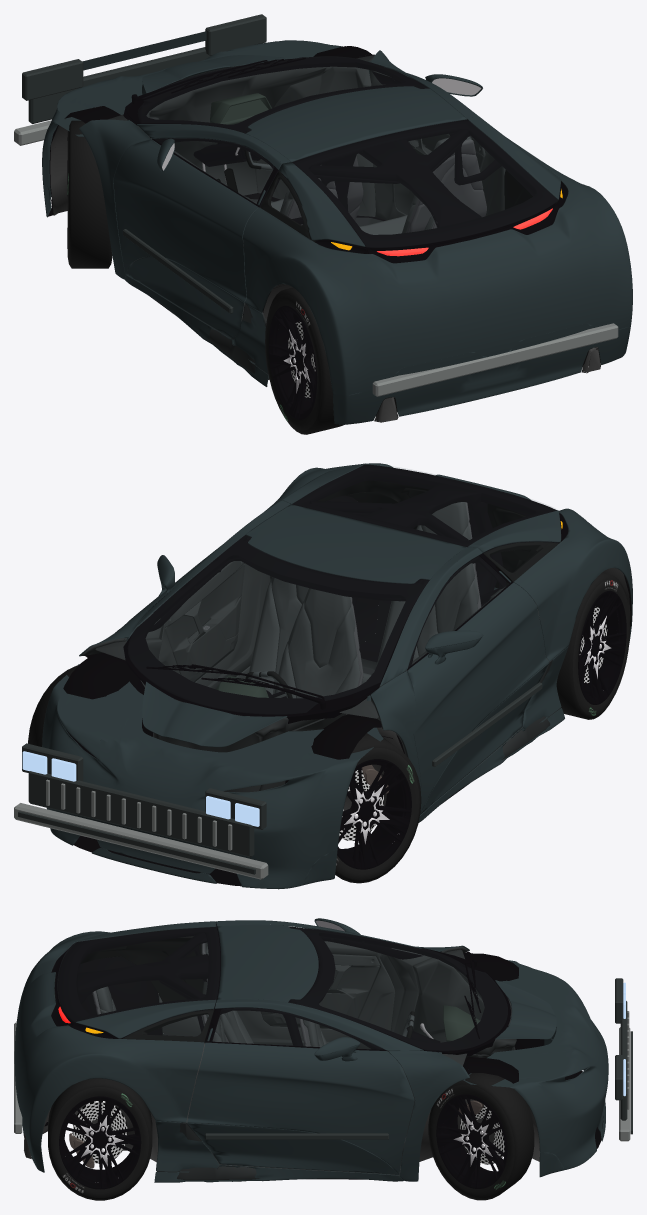
The model's file is cruiser.glb.
3 renders of one model, top to bottom at view 1: azimuth 30°, elevation 25°; view 2: azimuth 150°, elevation 25°; view 3: azimuth 270°, elevation 25°, orthographic. The views are drawn at different scales.
Parts seen in each view (by area): view 1: BodyRearPanelsColor1, BodyDoorLColor1, BodyPanelsColor2, BodyRoofPanel, InteriorRearHatch, BodyPillars, InteriorPillar, VT1 fixed VT1 dark steel grille and bumper rubber, InteriorDashMid, WheelFrontL, BodyHood, BodyWindshieldGasket (+20 smaller); view 2: BodyHood, BodyDoorLColor1, BodyWindshieldGasket, BodyRearPanelsColor1, BodyRoofPanel, VT1 fixed VT1 dark steel grille and bumper rubber, InteriorSeatsColor1, InteriorFloor, BodyPillars, InteriorSeatsColor2, WheelFrontLRim, InteriorPillar (+24 smaller); view 3: BodyDoorRColor1, BodyRearPanelsColor1, BodyHood, BodyPillars, BodyRoofPanel, BodyDoorRColor2, BodyWindshieldGasket, WheelFrontR, BodyPanelsColor2, WheelRearRRim, WheelFrontRRim, WheelRearR (+24 smaller).
Boxes of the visible parts, x1,y1,x2,y2 form: BodyRearPanelsColor1: (243,116,632,395); BodyDoorLColor1: (113,139,258,302); BodyPanelsColor2: (43,186,631,424); BodyRoofPanel: (246,86,466,161); InteriorRearHatch: (280,120,557,253); BodyPillars: (79,50,477,279); InteriorPillar: (292,120,481,227); VT1 fixed VT1 dark steel grille and bumper rubber: (22,14,266,123); InteriorDashMid: (148,65,332,195); WheelFrontL: (67,120,112,268); BodyHood: (42,40,370,202); BodyWindshieldGasket: (123,56,427,133); BodyHood: (42,636,383,889); BodyDoorLColor1: (407,582,548,814); BodyWindshieldGasket: (123,536,428,723); BodyRearPanelsColor1: (264,463,632,661); BodyRoofPanel: (246,504,466,583); VT1 fixed VT1 dark steel grille and bumper rubber: (18,743,266,874); InteriorSeatsColor1: (249,502,474,698); InteriorFloor: (63,495,630,886); BodyPillars: (79,500,482,795); InteriorSeatsColor2: (271,525,478,698); WheelFrontLRim: (337,759,411,869); InteriorPillar: (243,482,503,609); BodyDoorRColor1: (187,1042,414,1174); BodyRearPanelsColor1: (14,921,216,1145); BodyHood: (438,951,608,1169); BodyPillars: (215,920,469,1181); BodyRoofPanel: (217,924,318,1002); BodyDoorRColor2: (187,1123,398,1174); BodyWindshieldGasket: (289,926,511,1056); WheelFrontR: (428,1073,534,1200); BodyPanelsColor2: (15,1038,605,1182); WheelRearRRim: (59,1096,141,1189); WheelFrontRRim: (436,1094,507,1188); WheelRearR: (48,1078,152,1200).
Size of the model in its own units: 2.54 by 1.44 by 4.54.
37 materials, 5 textured.
